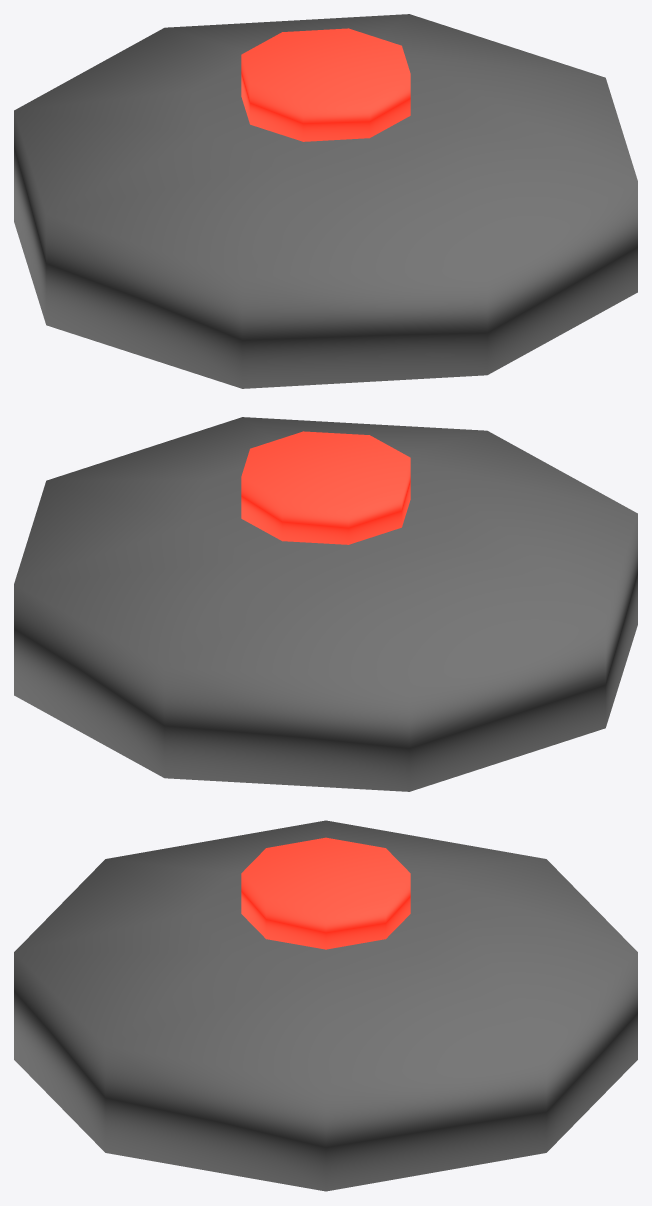
The model's file is TL_landmine.glb.
3 renders of one model, top to bottom at view 1: azimuth 30°, elevation 25°; view 2: azimuth 150°, elevation 25°; view 3: azimuth 270°, elevation 25°, orthographic. The views are drawn at different scales.
Parts seen in each view (by area): view 1: Cylinder; view 2: Cylinder; view 3: Cylinder.
Boxes of the visible parts, x1,y1,x2,y2 form: Cylinder: [14, 14, 637, 388]; Cylinder: [14, 417, 637, 791]; Cylinder: [14, 820, 637, 1191].
Size of the model in its own units: 2 by 0.6588 by 2.
